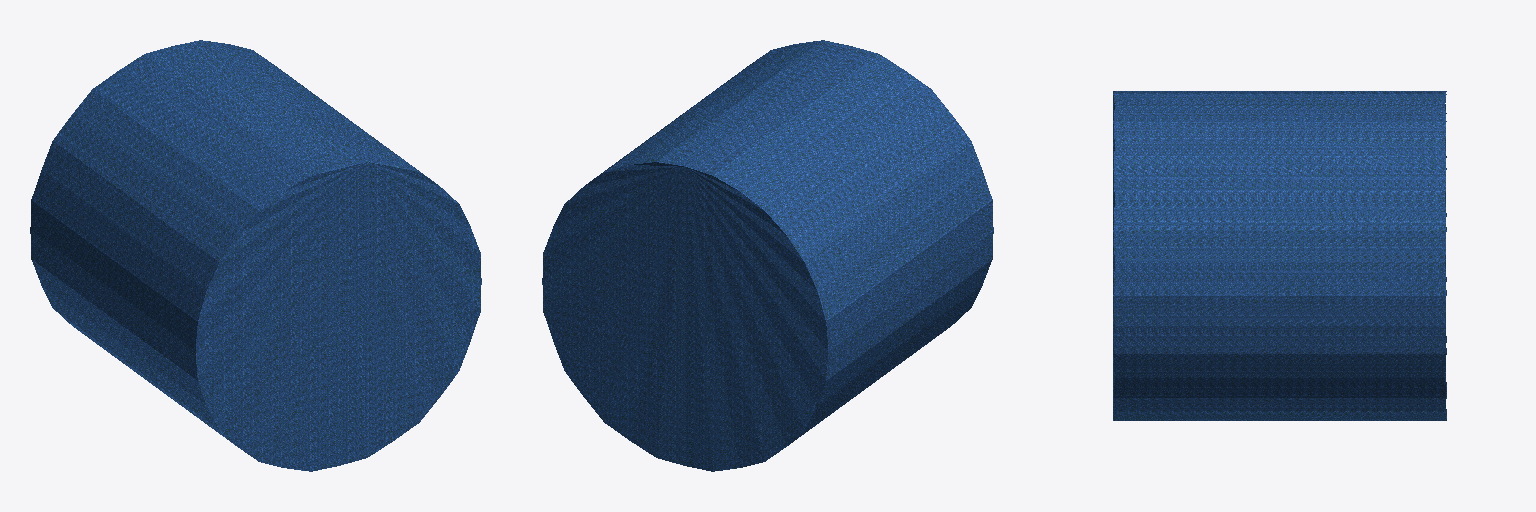
The picture shows the model from 3 angles: view 1: azimuth 30°, elevation 25°; view 2: azimuth 150°, elevation 25°; view 3: azimuth 270°, elevation 25°; orthographic projection.
Parts seen in each view (by area): view 1: Cylinder; view 2: Cylinder; view 3: Cylinder.
Boxes of the visible parts, x1=… form: Cylinder: x1=30, y1=40, x2=481, y2=471; Cylinder: x1=542, y1=40, x2=993, y2=471; Cylinder: x1=1113, y1=91, x2=1446, y2=420.
Bounding box in the file's own units: 1.98 × 1.98 × 2.
Materials: 1 (1 with a texture image).